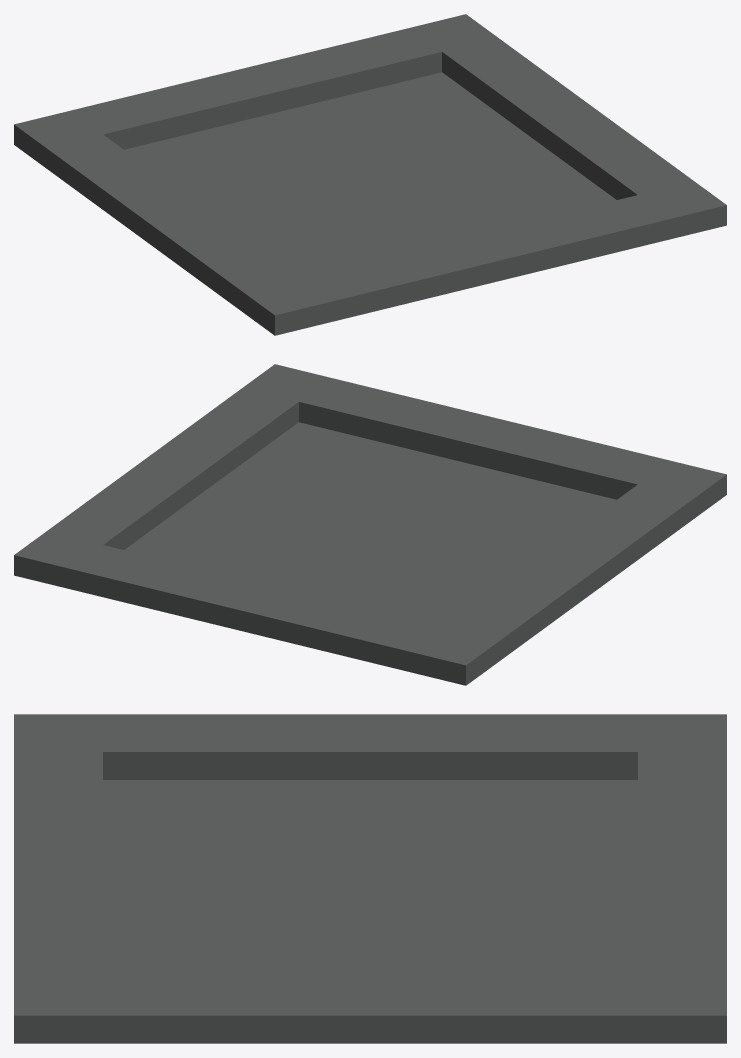
The model's file is dak2.fbx.
3 renders of one model, top to bottom at view 1: azimuth 30°, elevation 25°; view 2: azimuth 150°, elevation 25°; view 3: azimuth 270°, elevation 25°, orthographic. The views are drawn at different scales.
Visible parts, largest first — view 1: polySurface2; view 2: polySurface2; view 3: polySurface2.
Part boxes in pixels (x1,y1,x2,y2): polySurface2: (14,14,726,335); polySurface2: (14,364,726,685); polySurface2: (14,714,726,1043).
Bounding box in the file's own units: 21.76 × 0.9386 × 21.76.
